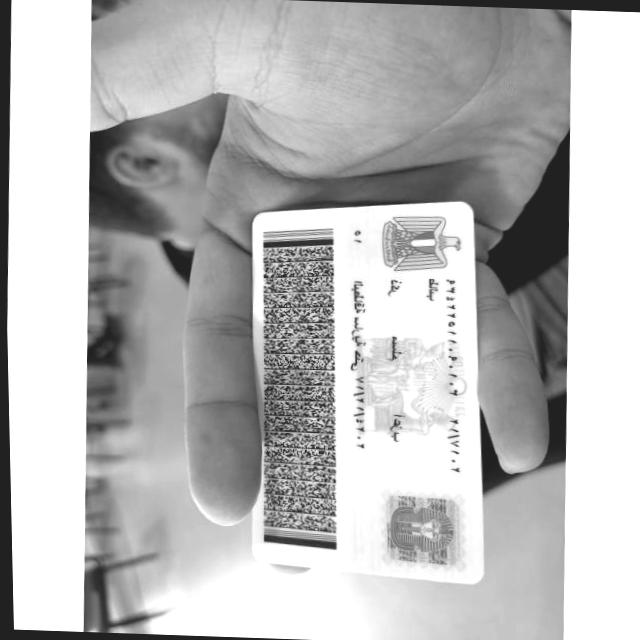back: (252, 200, 481, 581)
